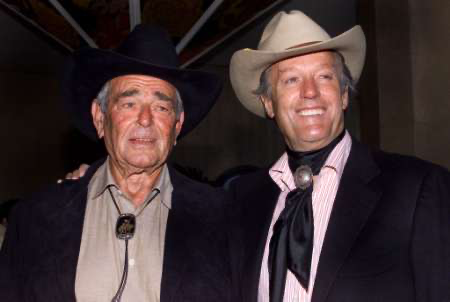Face: (108, 83, 178, 172), (276, 58, 342, 147)
